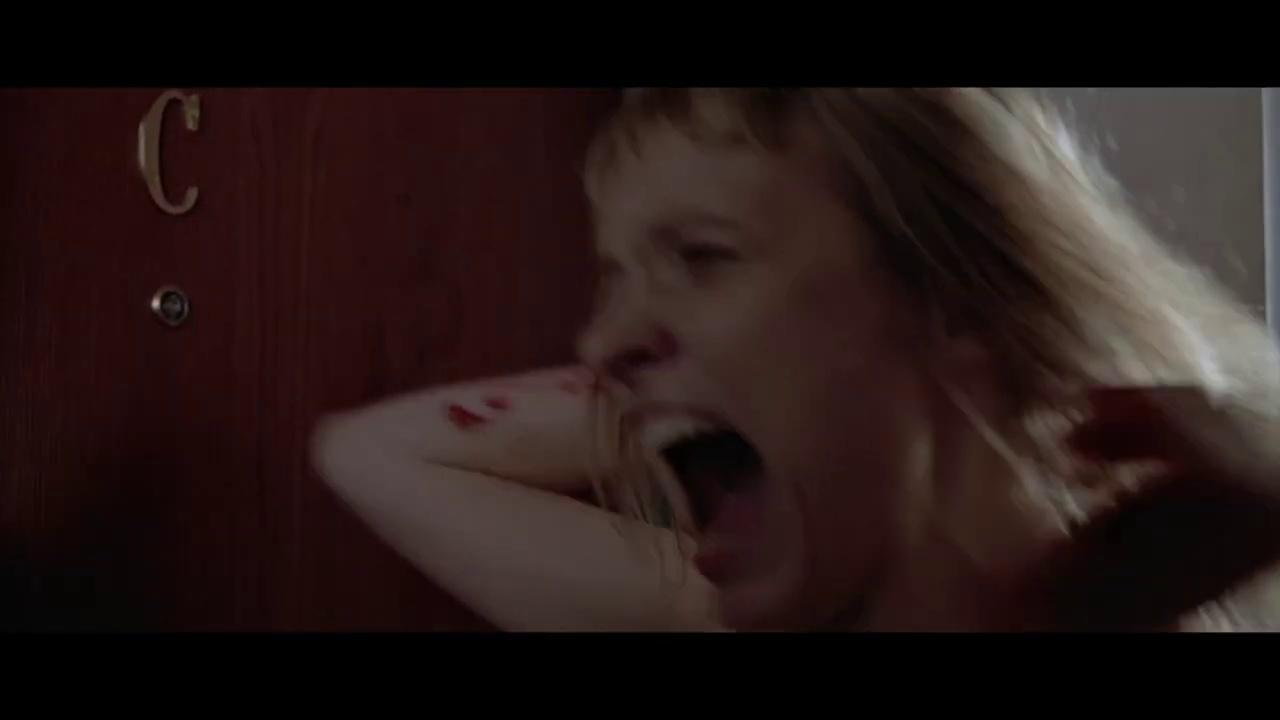Fire: (417, 378, 524, 430)
